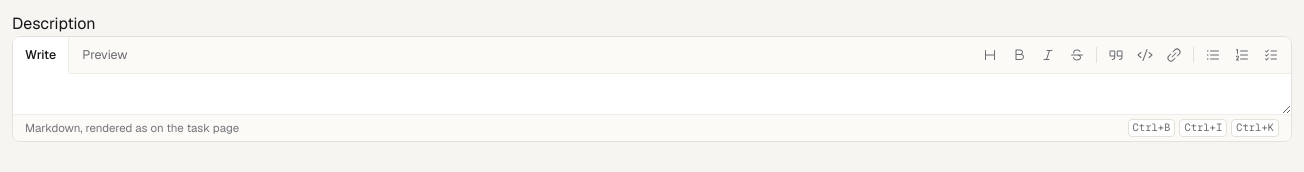
Scenario: MarkdownEditor › says so when there is nothing to preview
Click the button "Preview": [105, 56] box [69, 37, 140, 74]
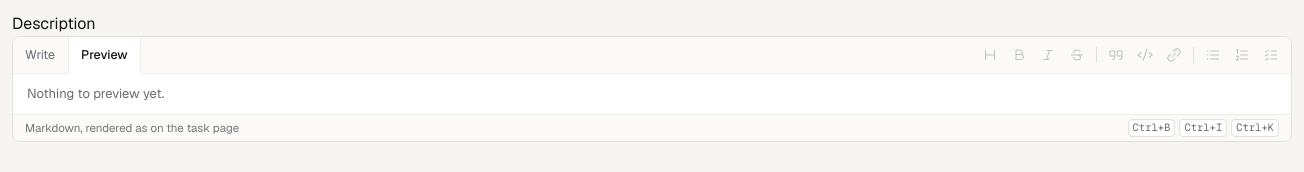
expect the text "Nothing to preview yet." is shown: met, box [27, 85, 164, 102]
